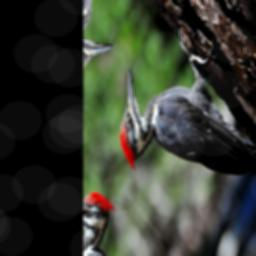Woodpecker: (100, 0, 256, 256)
